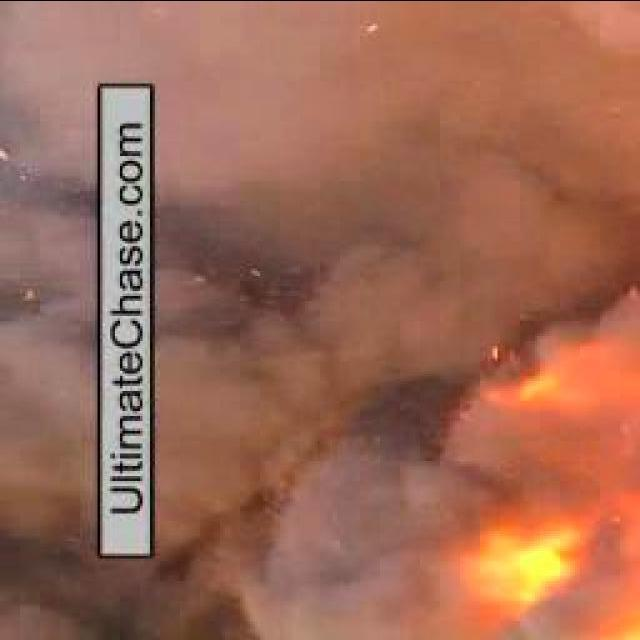Fire: (400, 335, 638, 640)
